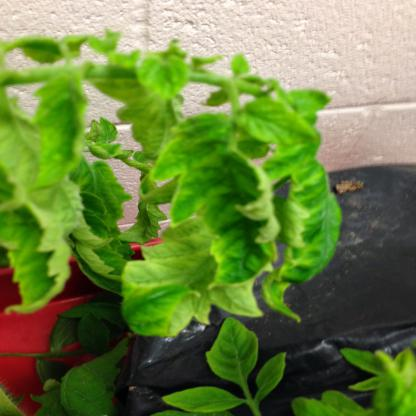Tomato leaf yellow virus: (165, 99, 284, 297), (279, 51, 369, 288), (31, 61, 99, 194), (208, 319, 263, 389)
